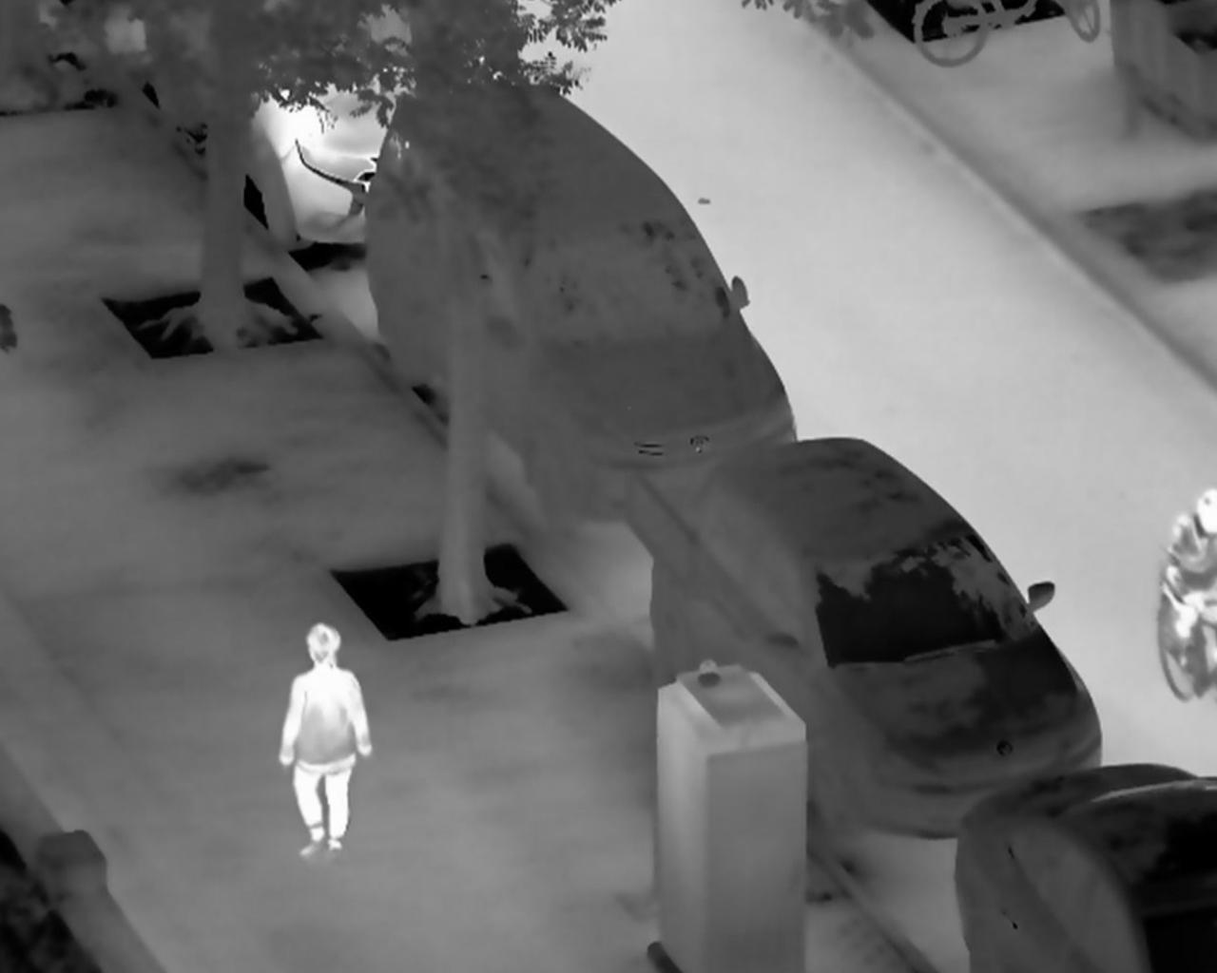person: (277, 619, 377, 857), (1156, 490, 1217, 635)
